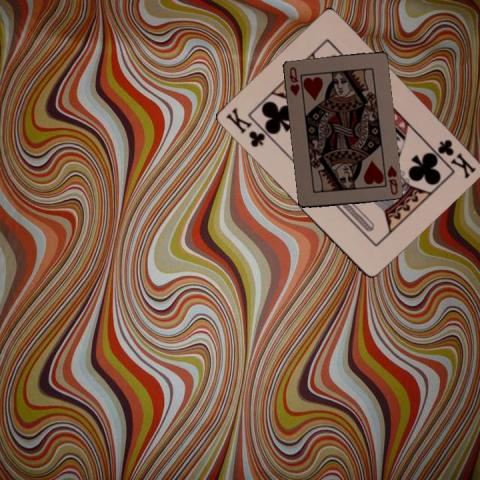Kc: (434, 136, 478, 180), (223, 104, 266, 148)
Qh: (384, 162, 399, 197), (287, 64, 301, 97)
